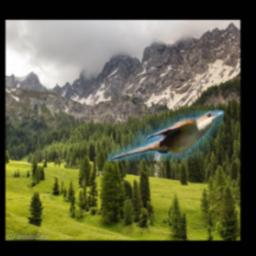Cuckoo: (108, 111, 225, 162)
